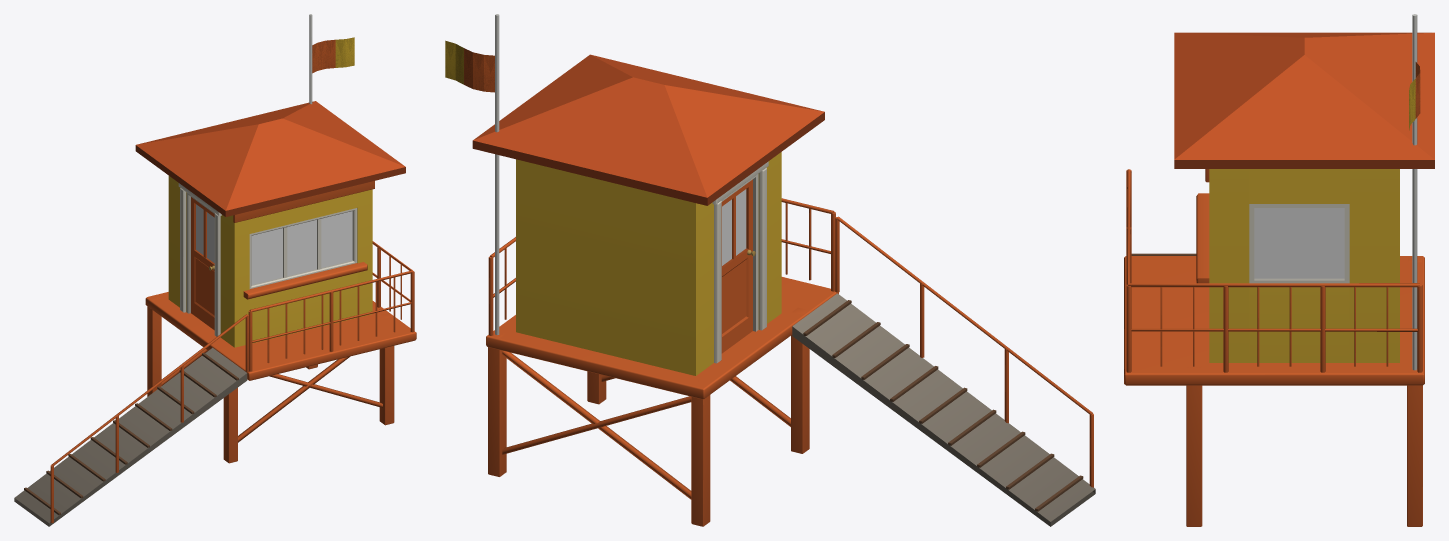
Rendered from LifeguardFL.fbx.
3 views of the same model, side by side, from view 1: azimuth 30°, elevation 25°; view 2: azimuth 150°, elevation 25°; view 3: azimuth 270°, elevation 25° (orthographic). The views are drawn at different scales.
Parts seen in each view (by area): view 1: LifeguardFL; view 2: LifeguardFL; view 3: LifeguardFL.
Boxes of the visible parts, <box> form: LifeguardFL: <box>14,14,416,526</box>; LifeguardFL: <box>445,14,1095,526</box>; LifeguardFL: <box>1124,14,1434,526</box>.
Bounding box in the file's own units: 6.7 × 5.6 × 3.1.
